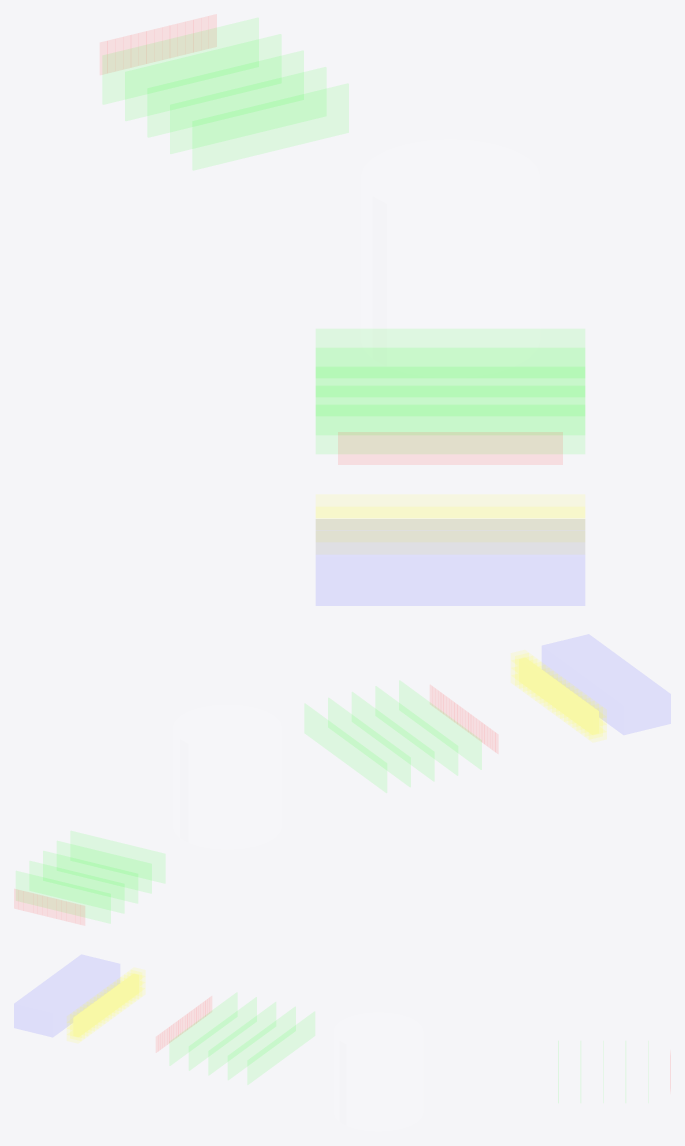
Rendered from trial.glb.
The picture shows the model from 3 angles, top to bottom: view 1: azimuth 30°, elevation 25°; view 2: azimuth 150°, elevation 25°; view 3: azimuth 270°, elevation 25°; orthographic projection. The views are drawn at different scales.
Size of the model in its own units: 6549 by 2000 by 14616.
